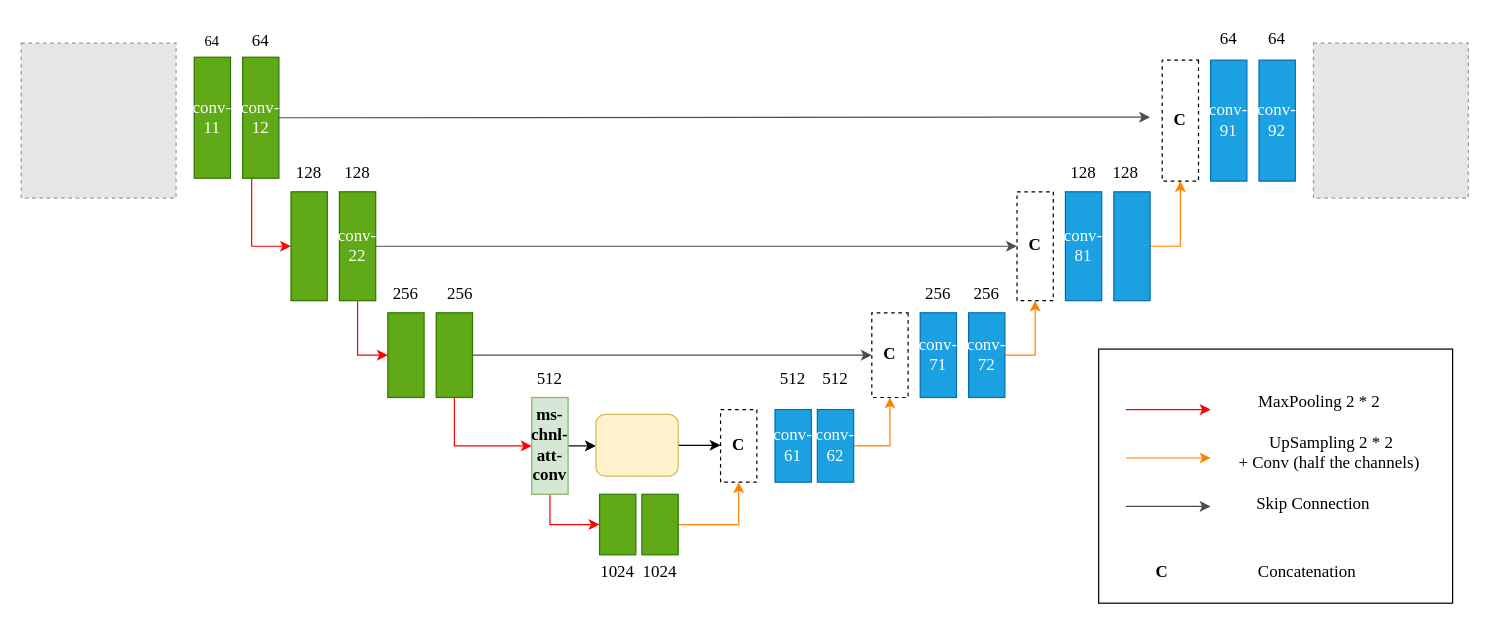
The diagram is 1490 pixels wide and 624 high, and some of its shapes have lost their labels. Grey dashed boxes stand in for pictures. The box of each missing label's shape, as (x1, y1, x2, y2) in pixels:
conv-21: (290, 191, 327, 301)
conv-31: (387, 312, 424, 397)
conv-32: (435, 312, 473, 397)
conv-51: (598, 493, 636, 555)
conv-52: (641, 493, 678, 555)
conv-82: (1113, 191, 1150, 301)
spatial-self- attn-sc: (595, 413, 678, 476)
